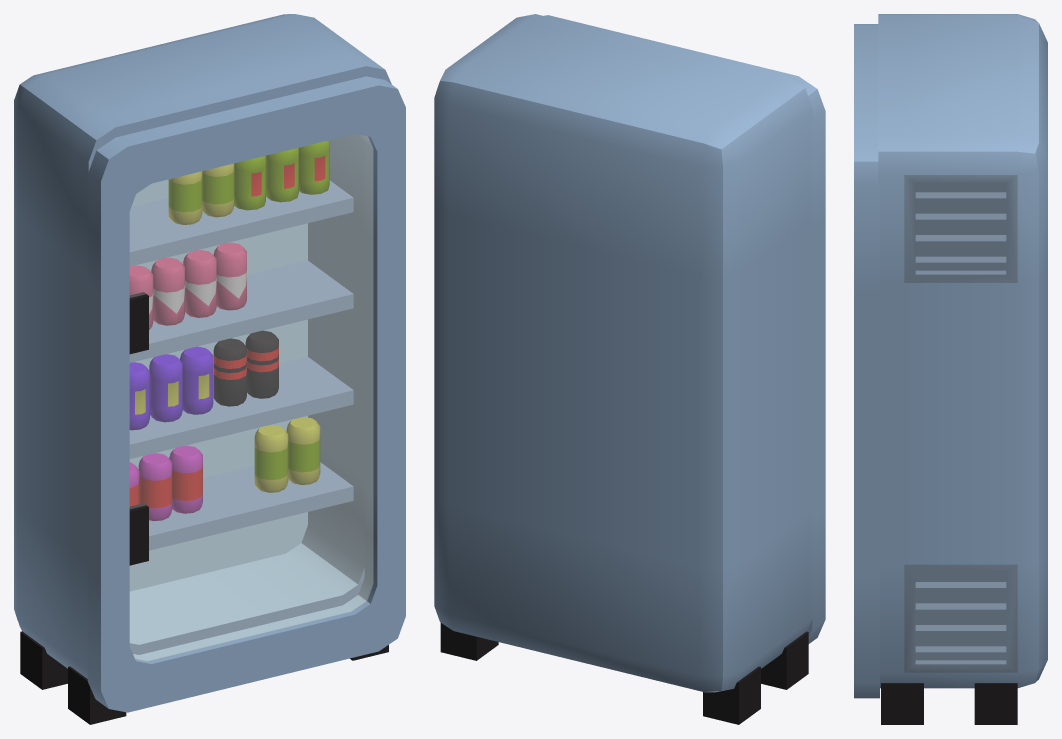
File: drinks_fridge.glb
3 renders of one model, left to right at view 1: azimuth 30°, elevation 25°; view 2: azimuth 150°, elevation 25°; view 3: azimuth 270°, elevation 25°, orthographic. The views are drawn at different scales.
Visible parts, largest first — view 1: Environment_CanFridge, Environment_CanFridge_Door_Environment_CanFridge_Door_Glass, Environment_CanFridge_Door_Environment_CanFridge_Door_Atlas; view 2: Environment_CanFridge, Environment_CanFridge_Door_Environment_CanFridge_Door_Atlas; view 3: Environment_CanFridge, Environment_CanFridge_Door_Environment_CanFridge_Door_Atlas.
Part boxes in pixels (x1,y1,x2,y2): Environment_CanFridge: (14, 14, 391, 724); Environment_CanFridge_Door_Environment_CanFridge_Door_Glass: (130, 134, 373, 661); Environment_CanFridge_Door_Environment_CanFridge_Door_Atlas: (87, 76, 405, 712); Environment_CanFridge: (434, 14, 812, 724); Environment_CanFridge_Door_Environment_CanFridge_Door_Atlas: (544, 15, 825, 643); Environment_CanFridge: (878, 14, 1047, 724); Environment_CanFridge_Door_Environment_CanFridge_Door_Atlas: (854, 24, 879, 698).
Bounding box in the file's own units: 1.02 × 1.9 × 0.5768.
2 materials, 1 textured.
